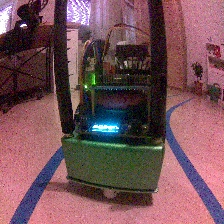rob: (59, 37, 166, 199)
